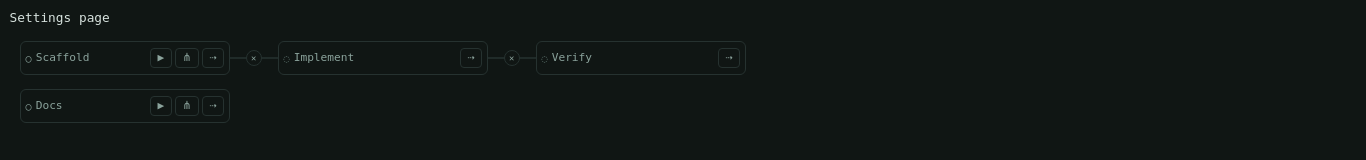
PlanCanvas › re-arms onto another source while a link is pending
This screenshot has width=1366, height=160.
Click the button named "Link from Scaffold": (213, 58) top-left (202, 48), bottom-right (224, 68)
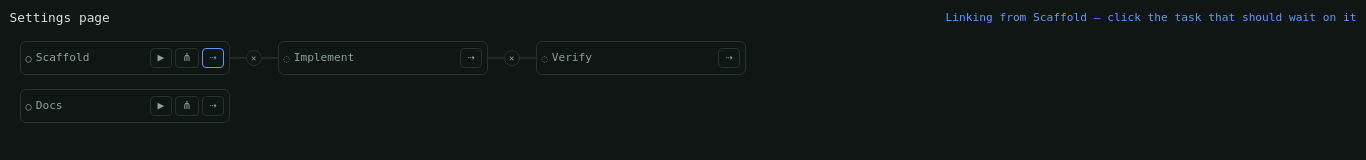
Click the button named "Link from Docs": (213, 106) top-left (202, 96), bottom-right (224, 116)
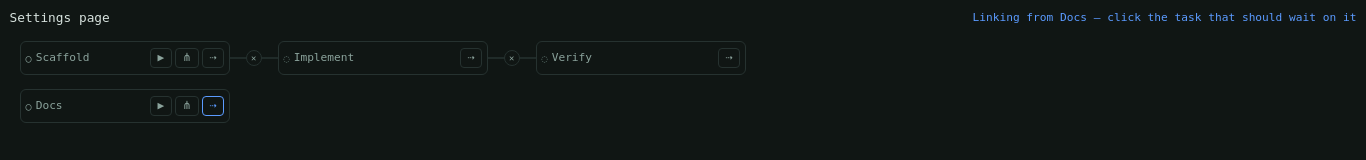
expect the message shows "Linking from Docs": met, box top-left (972, 11), bottom-right (1356, 24)
